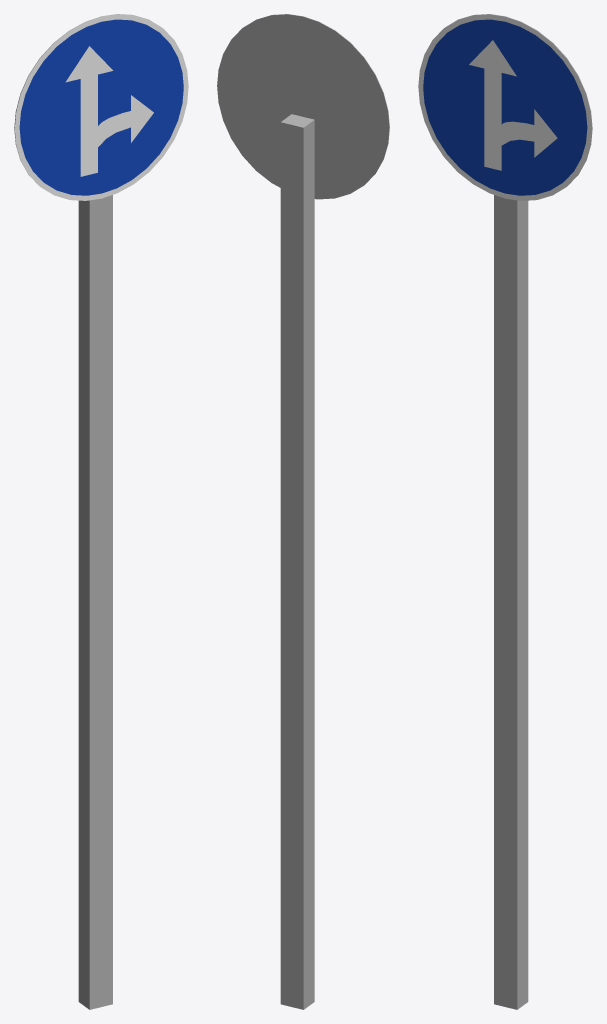
The model's file is rght.DAE.
The picture shows the model from 3 angles, left to right: view 1: azimuth 30°, elevation 25°; view 2: azimuth 150°, elevation 25°; view 3: azimuth 330°, elevation 25°; orthographic projection.
Parts seen in each view (by area): view 1: saFBXASC196FBXASC159aFBXASC032ileri; view 2: saFBXASC196FBXASC159aFBXASC032ileri; view 3: saFBXASC196FBXASC159aFBXASC032ileri.
Part boxes in pixels (bbox=[...]): saFBXASC196FBXASC159aFBXASC032ileri: bbox=[14, 14, 188, 1009]; saFBXASC196FBXASC159aFBXASC032ileri: bbox=[217, 14, 389, 1009]; saFBXASC196FBXASC159aFBXASC032ileri: bbox=[418, 14, 592, 1009].
Size of the model in its own units: 17.72 by 96.46 by 2.05.
